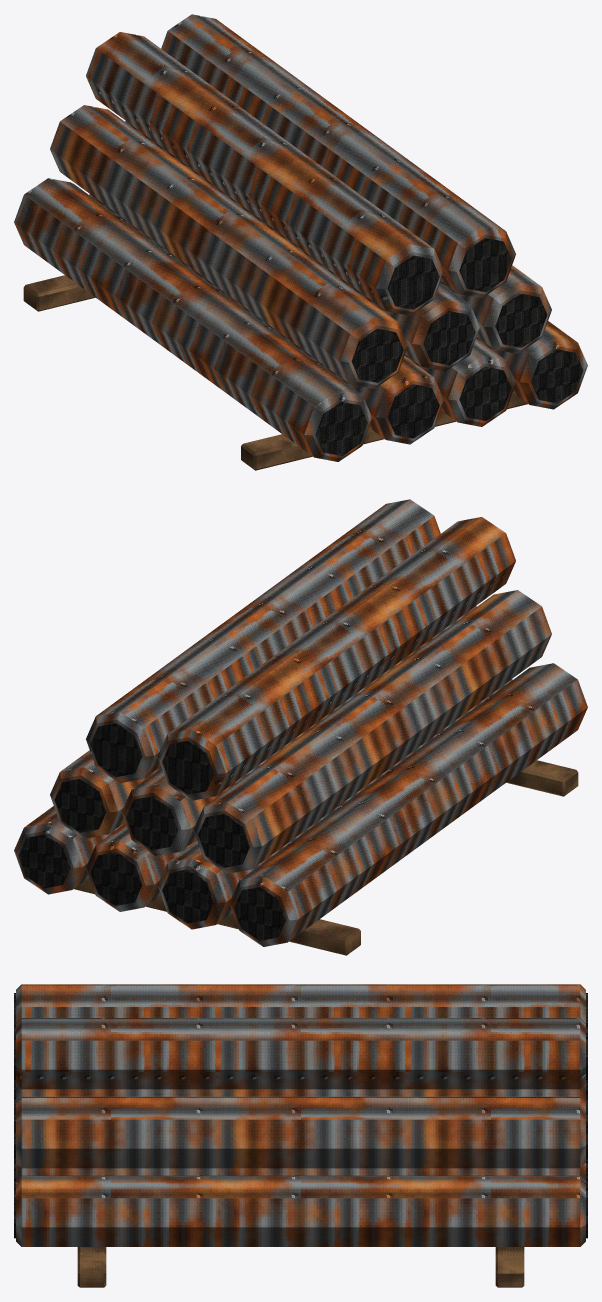
File: prop_pipe_stack.glb
3 renders of one model, top to bottom at view 1: azimuth 30°, elevation 25°; view 2: azimuth 150°, elevation 25°; view 3: azimuth 270°, elevation 25°, orthographic. The views are drawn at different scales.
Parts seen in each view (by area): view 1: prop_pipe_stack_mesh; view 2: prop_pipe_stack_mesh; view 3: prop_pipe_stack_mesh.
Boxes of the visible parts, x1=… form: prop_pipe_stack_mesh: x1=14, y1=14, x2=587, y2=470; prop_pipe_stack_mesh: x1=14, y1=499, x2=587, y2=955; prop_pipe_stack_mesh: x1=14, y1=984, x2=587, y2=1287.
Size of the model in its own units: 1.9 by 1.22 by 3.02.
3 materials, 3 textured.
